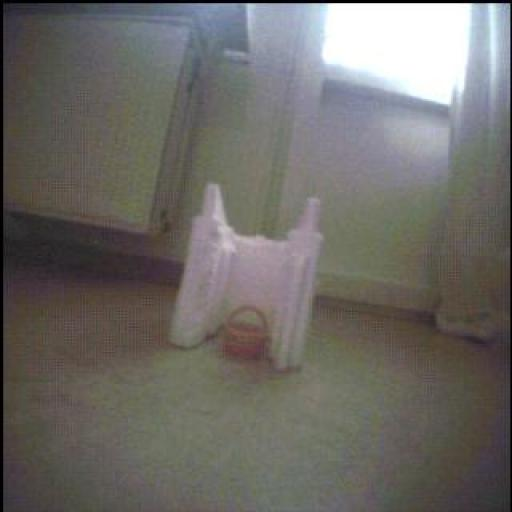Basket: (224, 307, 272, 361)
